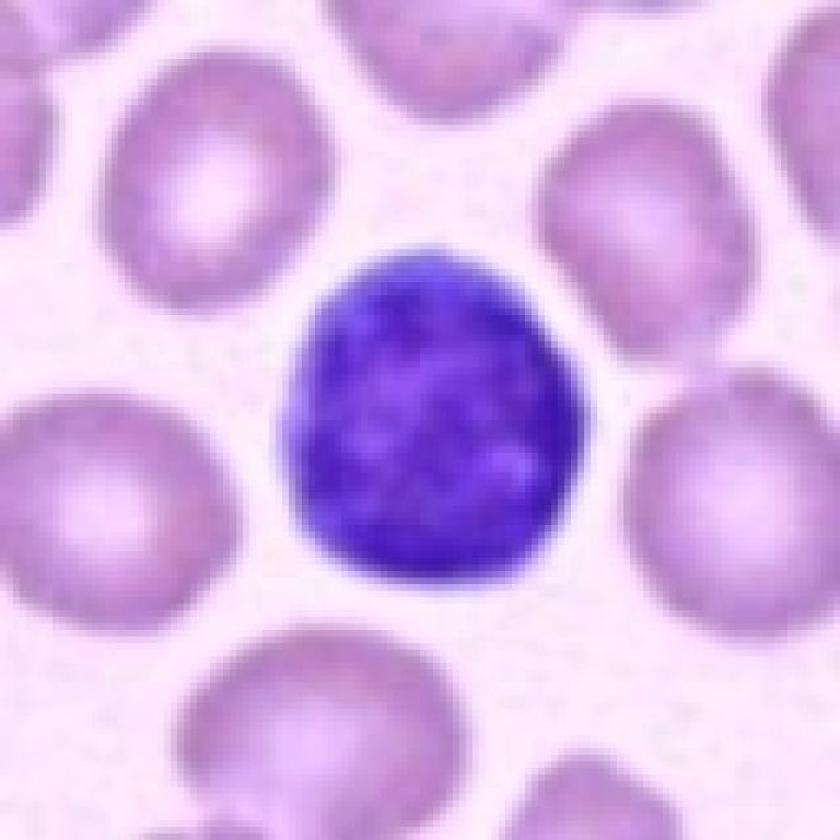lymphocyte: (271, 237, 597, 588)
